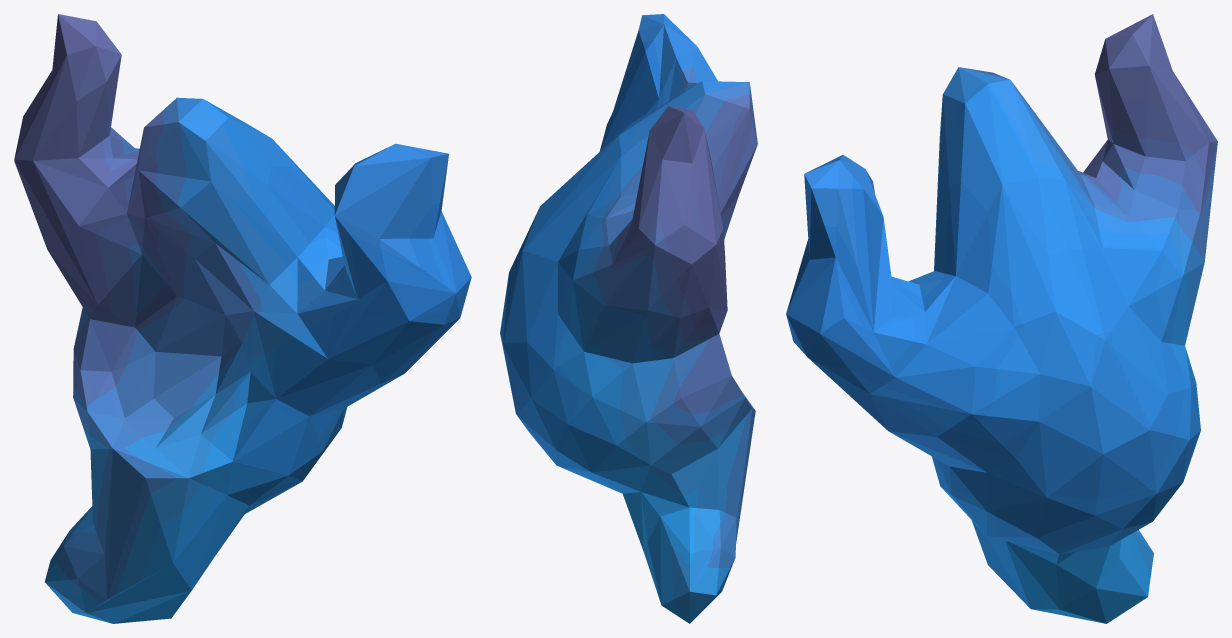
Rendered from Fruit3.obj.
3 renders of one model, left to right at view 1: azimuth 30°, elevation 25°; view 2: azimuth 150°, elevation 25°; view 3: azimuth 270°, elevation 25°, orthographic. The views are drawn at different scales.
Parts seen in each view (by area): view 1: Fruit_2:Group20676 group2; view 2: Fruit_2:Group20676 group2; view 3: Fruit_2:Group20676 group2.
Part boxes in pixels (x1,y1,x2,y2): Fruit_2:Group20676 group2: (14,14,471,623); Fruit_2:Group20676 group2: (500,14,757,623); Fruit_2:Group20676 group2: (786,14,1217,623).
Bounding box in the file's own units: 2.44 × 4.7 × 3.12.
1 material, 1 textured.
